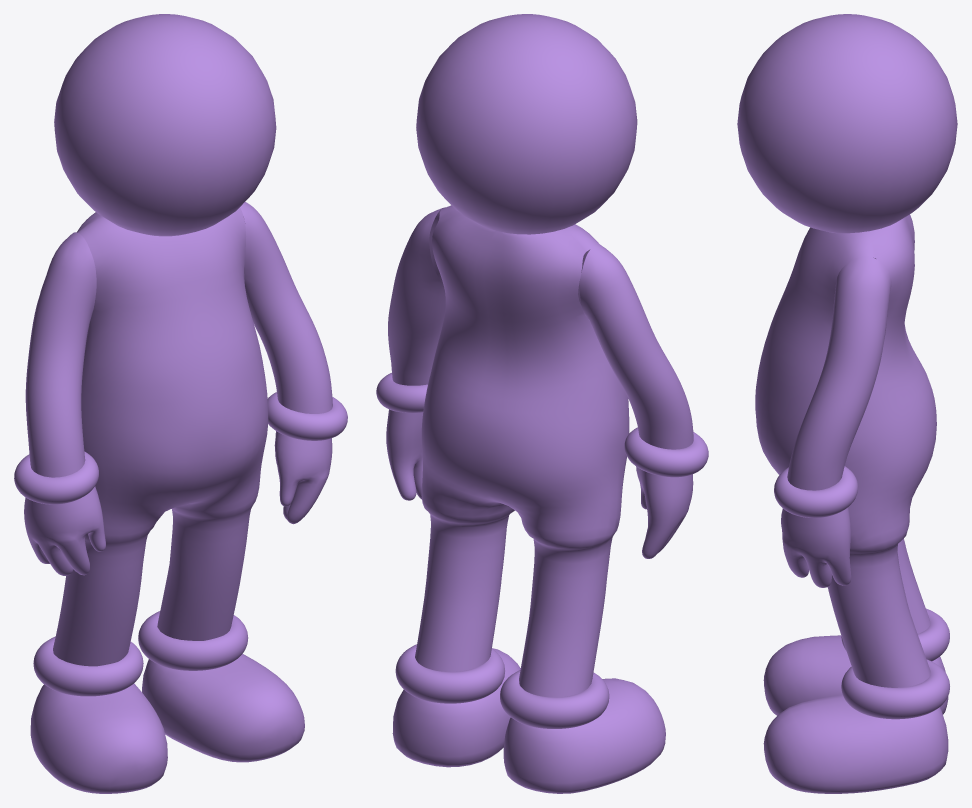
File: figure--model.glb
3 views of the same model, side by side, from view 1: azimuth 30°, elevation 25°; view 2: azimuth 150°, elevation 25°; view 3: azimuth 270°, elevation 25° (orthographic).
Parts seen in each view (by area): view 1: Body.002, Sphere.001, Shoe.001, Arm.001, Retopo_Mesh.007, Torus.005; view 2: Body.002, Sphere.001, Shoe.001, Arm.001, Retopo_Mesh.007, Torus.005; view 3: Body.002, Sphere.001, Shoe.001, Arm.001, Retopo_Mesh.007, Torus.005.
Part boxes in pixels (x1,y1,x2,y2): Body.002: (53,207,268,666); Sphere.001: (54,14,276,236); Shoe.001: (30,611,304,793); Arm.001: (25,202,332,477); Retopo_Mesh.007: (24,431,332,575); Torus.005: (14,392,347,504); Body.002: (415,205,629,697); Sphere.001: (416,14,637,234); Shoe.001: (392,644,665,793); Arm.001: (388,207,693,449); Retopo_Mesh.007: (386,409,693,558); Torus.005: (376,373,708,477); Body.002: (755,214,936,687); Sphere.001: (737,14,957,233); Shoe.001: (763,608,949,793); Arm.001: (787,256,891,490); Retopo_Mesh.007: (781,507,851,587); Torus.005: (774,466,858,517).
Bounding box in the file's own units: 46.04 × 99.37 × 27.56.
